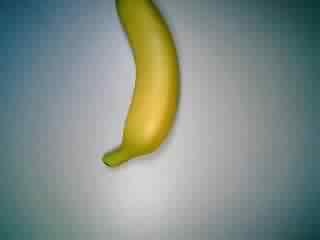banana: (94, 1, 186, 171)
